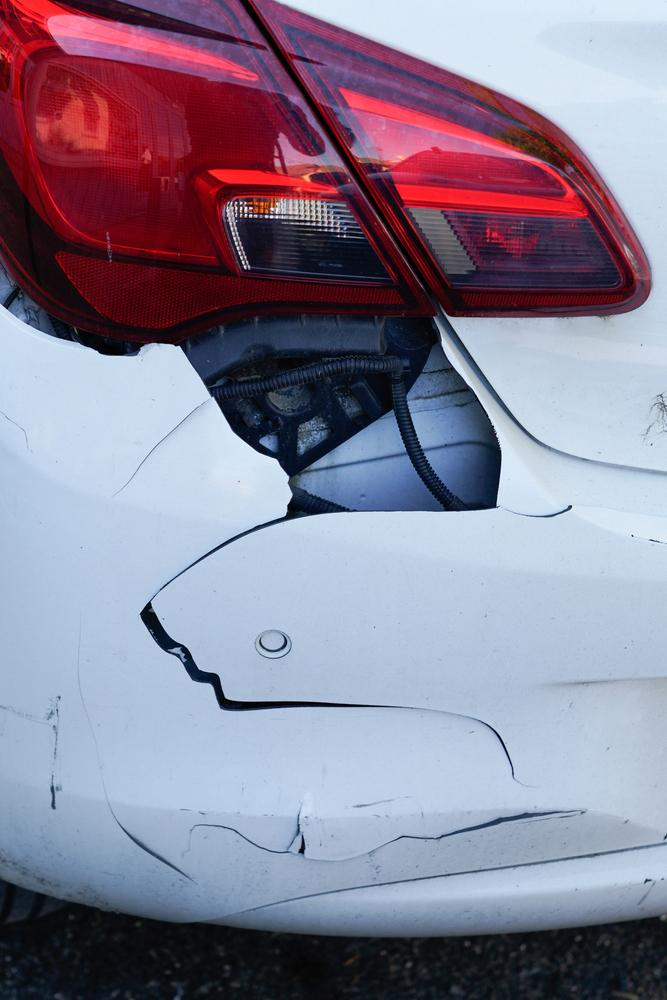crack: (137, 485, 543, 790), (76, 613, 201, 887), (181, 798, 589, 862), (109, 396, 214, 500), (0, 407, 29, 454), (500, 505, 573, 518)
